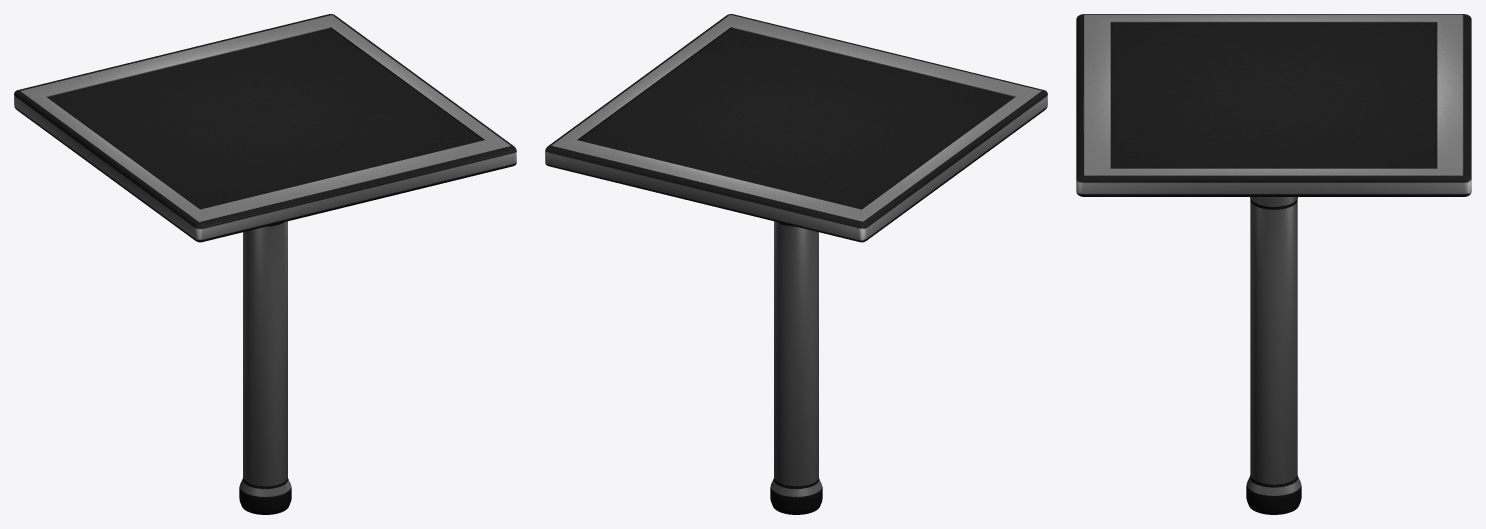
File: sci_fi_table.glb
The picture shows the model from 3 angles, left to right: view 1: azimuth 30°, elevation 25°; view 2: azimuth 150°, elevation 25°; view 3: azimuth 270°, elevation 25°; orthographic projection. The views are drawn at different scales.
Visible parts, largest first — view 1: BK_Tabletop_0, BK_Base_1; view 2: BK_Tabletop_0, BK_Base_1; view 3: BK_Tabletop_0, BK_Base_1.
Boxes of the visible parts, x1=… form: BK_Tabletop_0: x1=14, y1=14, x2=516, y2=242; BK_Base_1: x1=239, y1=221, x2=291, y2=514; BK_Tabletop_0: x1=545, y1=14, x2=1047, y2=242; BK_Base_1: x1=770, y1=221, x2=822, y2=514; BK_Tabletop_0: x1=1076, y1=14, x2=1471, y2=196; BK_Base_1: x1=1246, y1=197, x2=1301, y2=514.
Bounding box in the file's own units: 0.6691 × 0.77 × 0.6743.
Materials: 2 (2 with a texture image).
